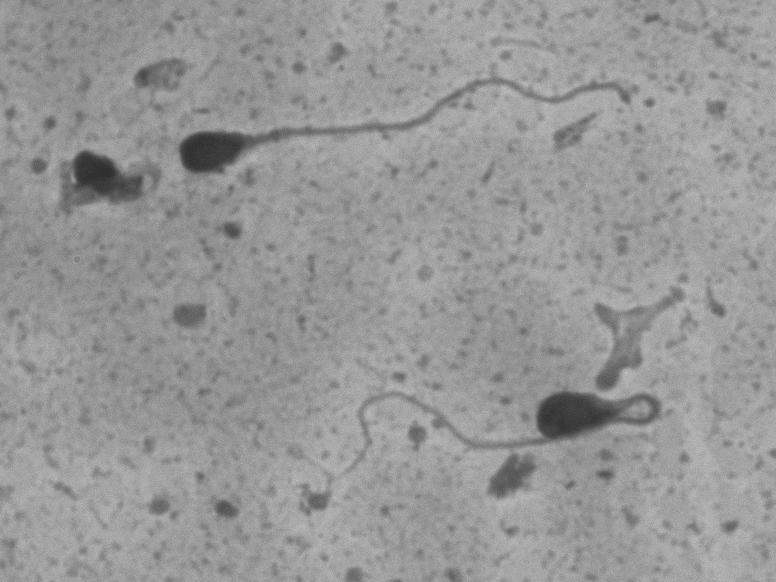Abnormal: (174, 55, 664, 179), (295, 371, 675, 499)
